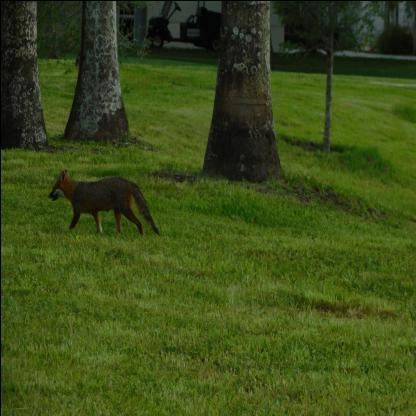zorro: (44, 165, 164, 239)
